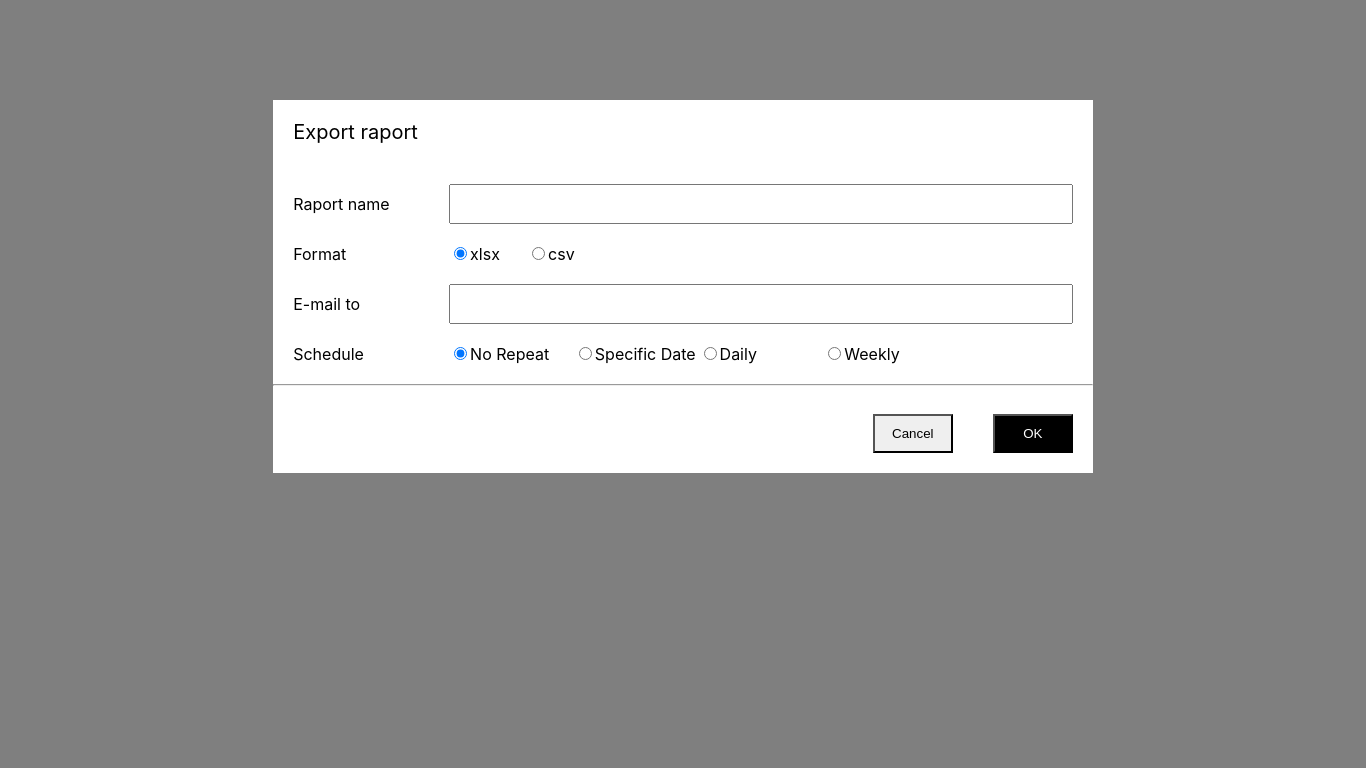
Scenario: Checking value changes › Schedule type change for type-one
Step 1. Click the radio button with test id "type-one" → x=585, y=354, box [579,347,592,360]
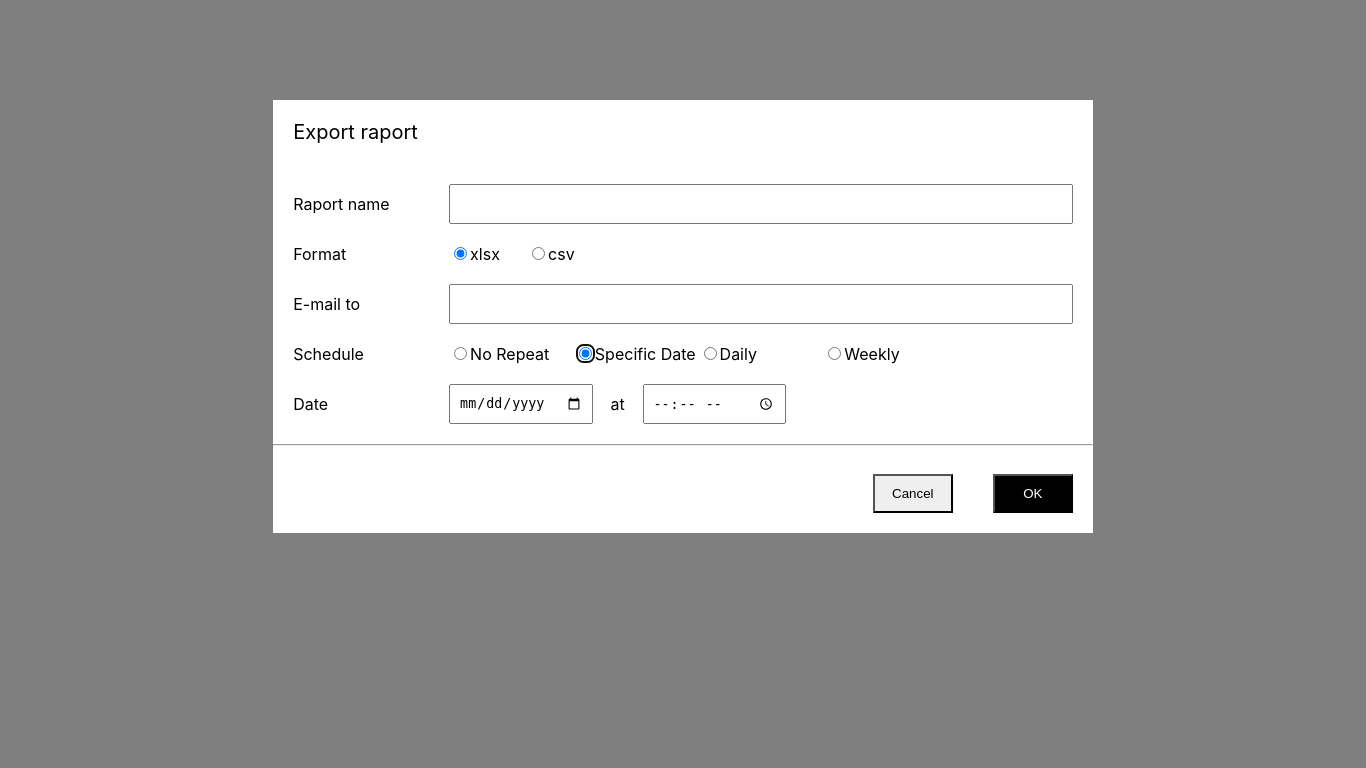
Result: the radio button with test id "type-one" is checked at [579,347,592,360]
Result: the radio button with test id "type-zero" is not checked at [454,347,467,360]
Result: the label with test id "schedule-label" reads "Date" at [293,394,328,414]
